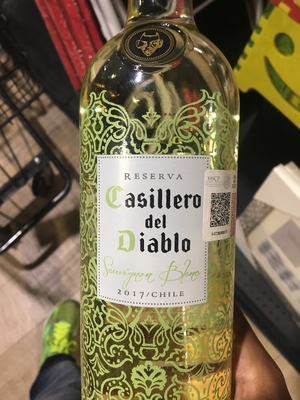casillero del diablo sauvignon blanc: (71, 14, 253, 400)
